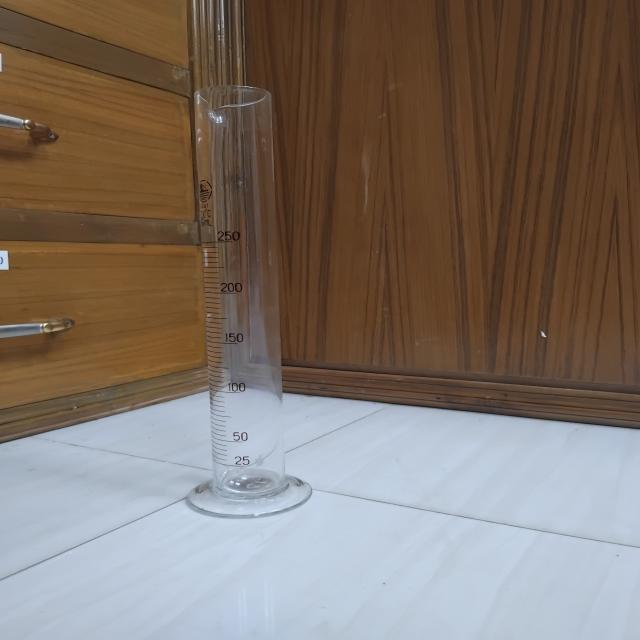Measuring_Cylinder: (125, 49, 362, 540)
